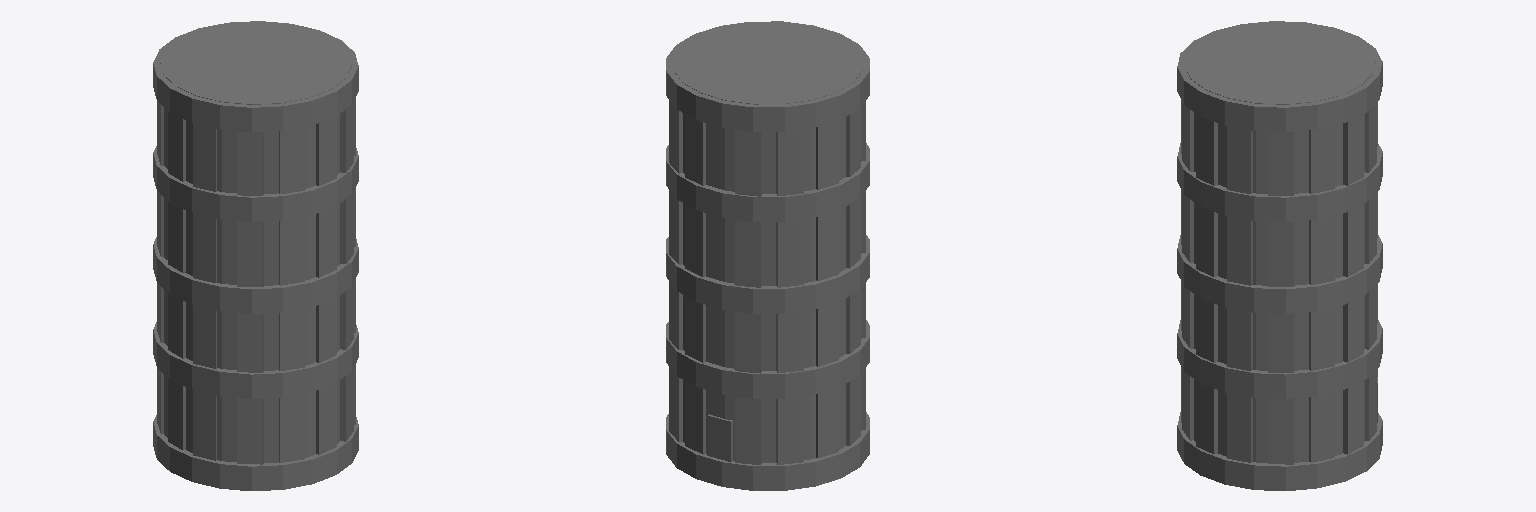
File: BUILDING_03.obj
3 renders of one model, left to right at view 1: azimuth 30°, elevation 25°; view 2: azimuth 150°, elevation 25°; view 3: azimuth 270°, elevation 25°, orthographic.
Visible parts, largest first — view 1: BUILDING_03:polySurface1; view 2: BUILDING_03:polySurface1; view 3: BUILDING_03:polySurface1.
Boxes of the visible parts, <box> form: BUILDING_03:polySurface1: <box>153,21,358,490</box>; BUILDING_03:polySurface1: <box>666,21,869,490</box>; BUILDING_03:polySurface1: <box>1177,21,1382,490</box>.
Bounding box in the file's own units: 5.52 × 11.38 × 5.52.